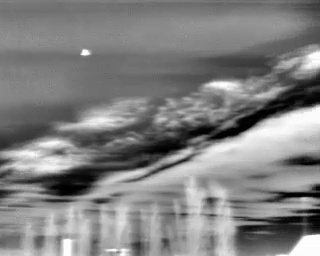BIRD: (79, 45, 94, 60)
